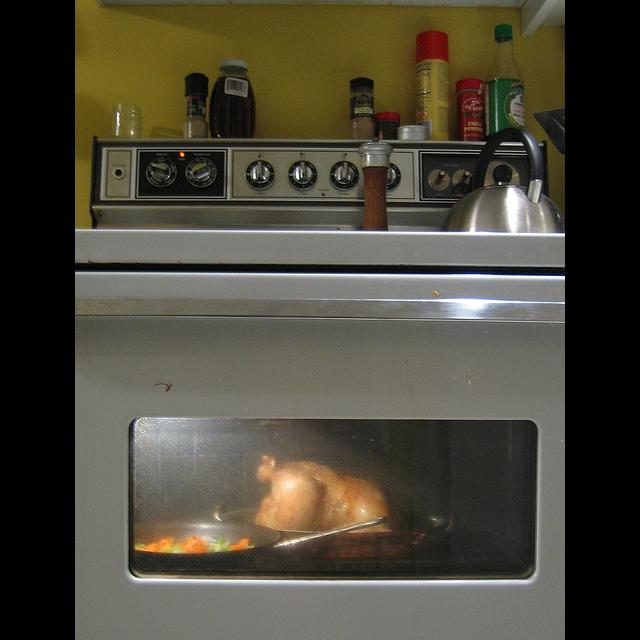Oven: (75, 129, 565, 631)
